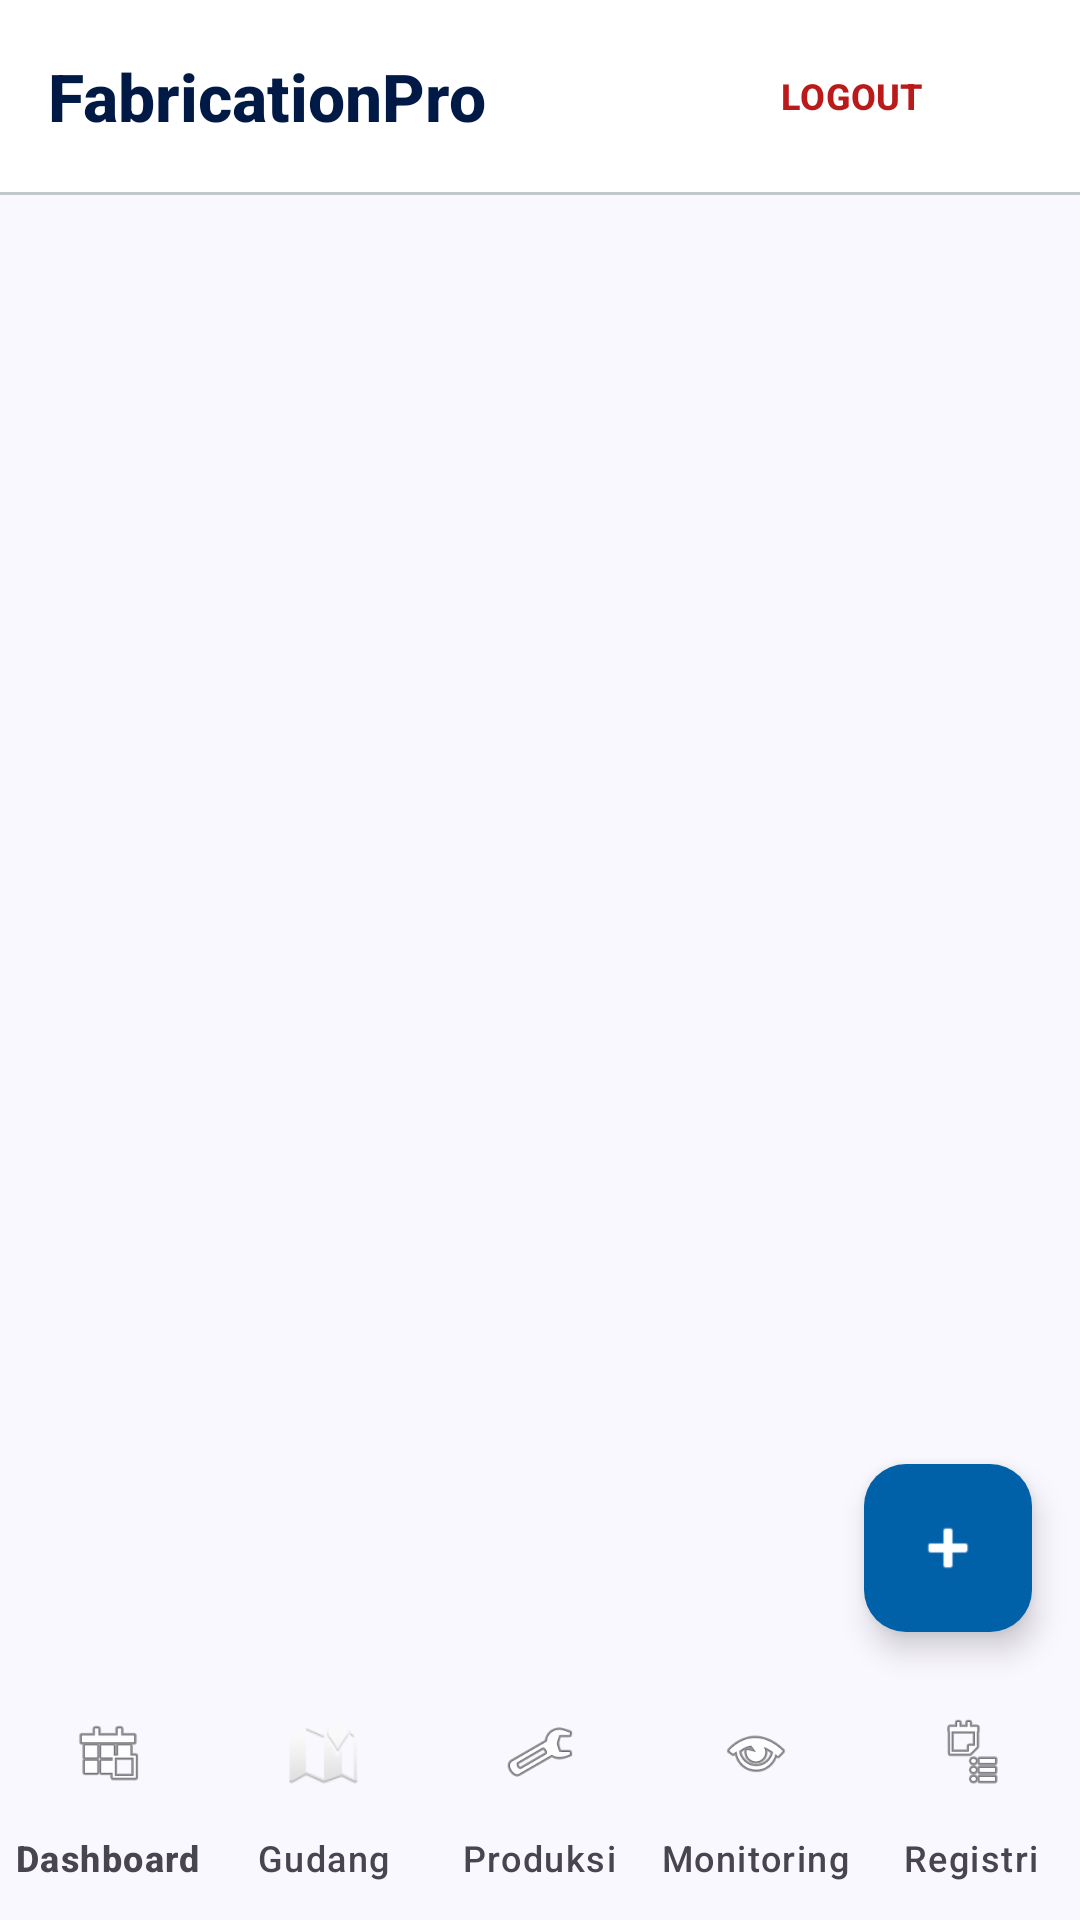

Where icons sit on this 1080px×1920px app screen, as [left=x1, top=y1, right=x2, bottom=y2]:
Add Action: [left=864, top=1464, right=1032, bottom=1632]
